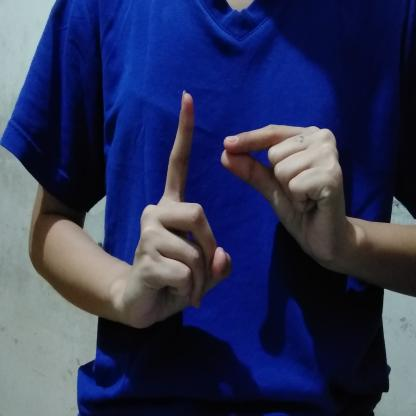son: (121, 86, 358, 334)
